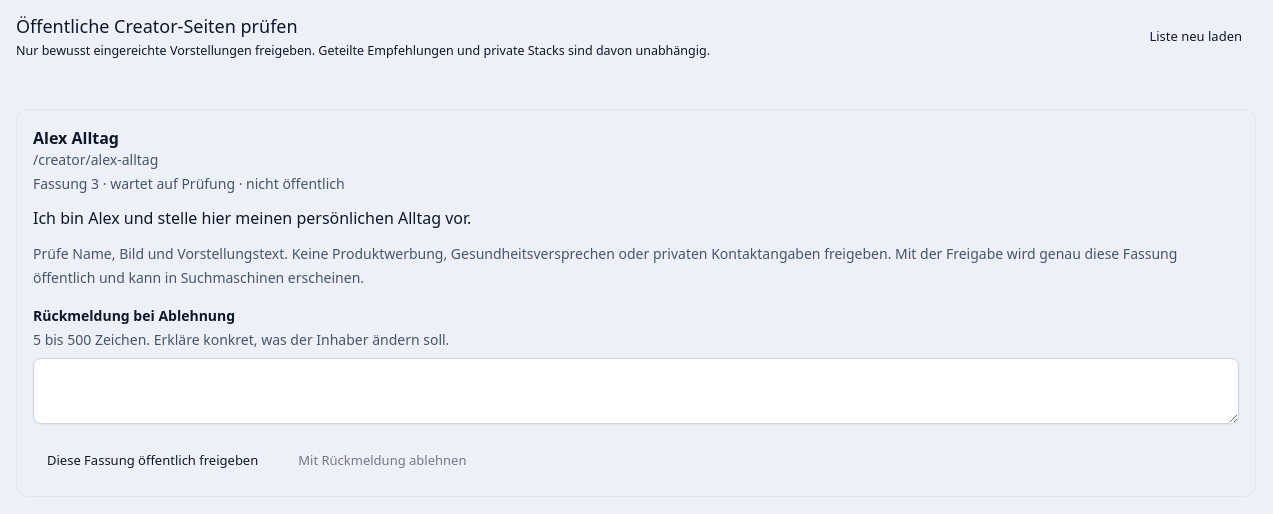
Test case: Admin public Creator profile review › shows the exact pending revision and approves with its version/fingerprint without editing identity or prose
Check: the text "Fassung 3 · wartet auf Prüfung · nicht öffentlich" is shown, box [33, 174, 345, 194]
Check: the text "Ich bin Alex und stelle hier meinen persönlichen Alltag vor." is shown, box [33, 207, 471, 229]
Click the button "Diese Fassung öffentlich freigeben".
click(153, 461)  # box [33, 442, 272, 480]
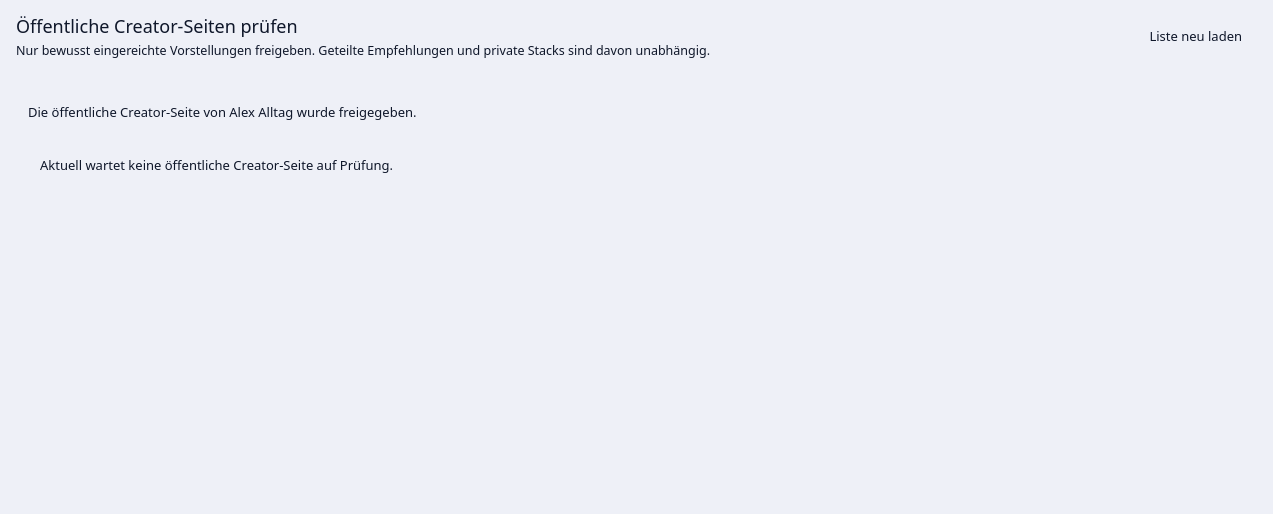
Check: the text "Die öffentliche Creator-Seite von Alex Alltag wurde freigegeben." is shown, box [28, 103, 416, 121]
Check: the button "Diese Fassung öffentlich freigeben" is gone
